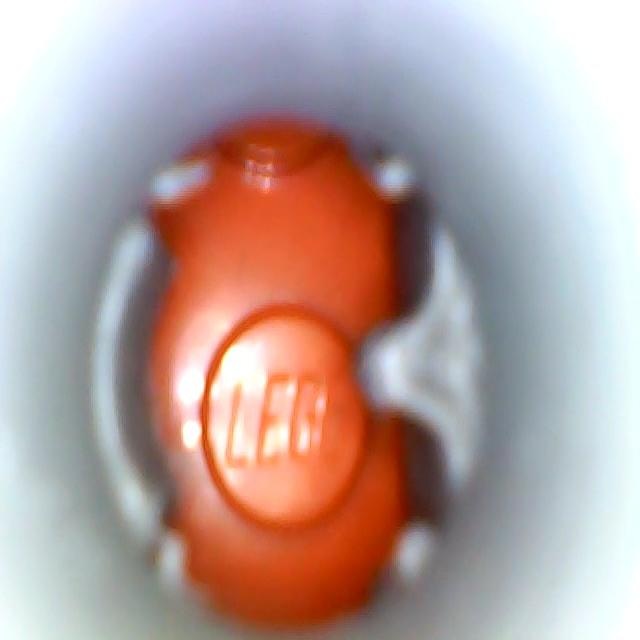studs: (201, 308, 365, 524), (218, 123, 336, 176)
